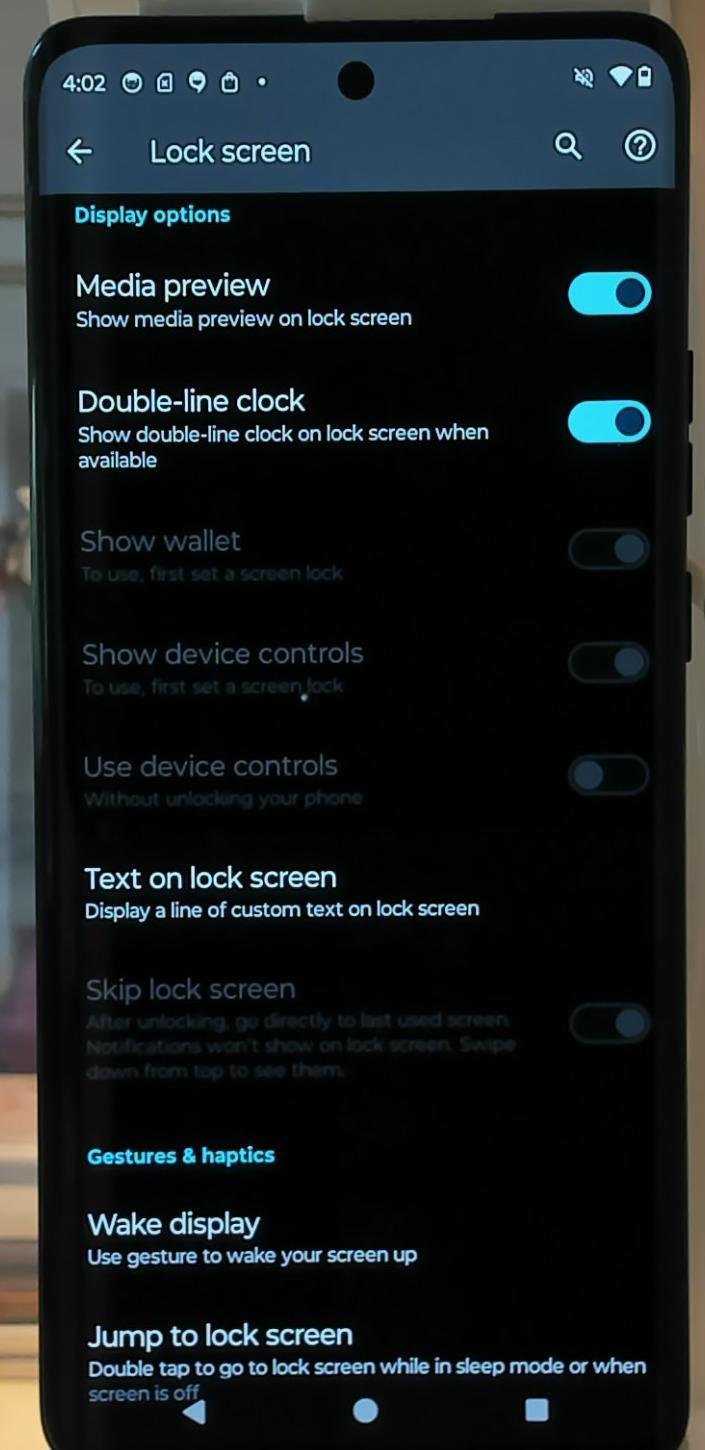Checkbox: (72, 377, 659, 479), (67, 261, 657, 346)
CommunBotton: (549, 112, 597, 173), (615, 117, 663, 168), (518, 1387, 559, 1434), (349, 1390, 391, 1435), (178, 1384, 212, 1433), (59, 132, 97, 174)
